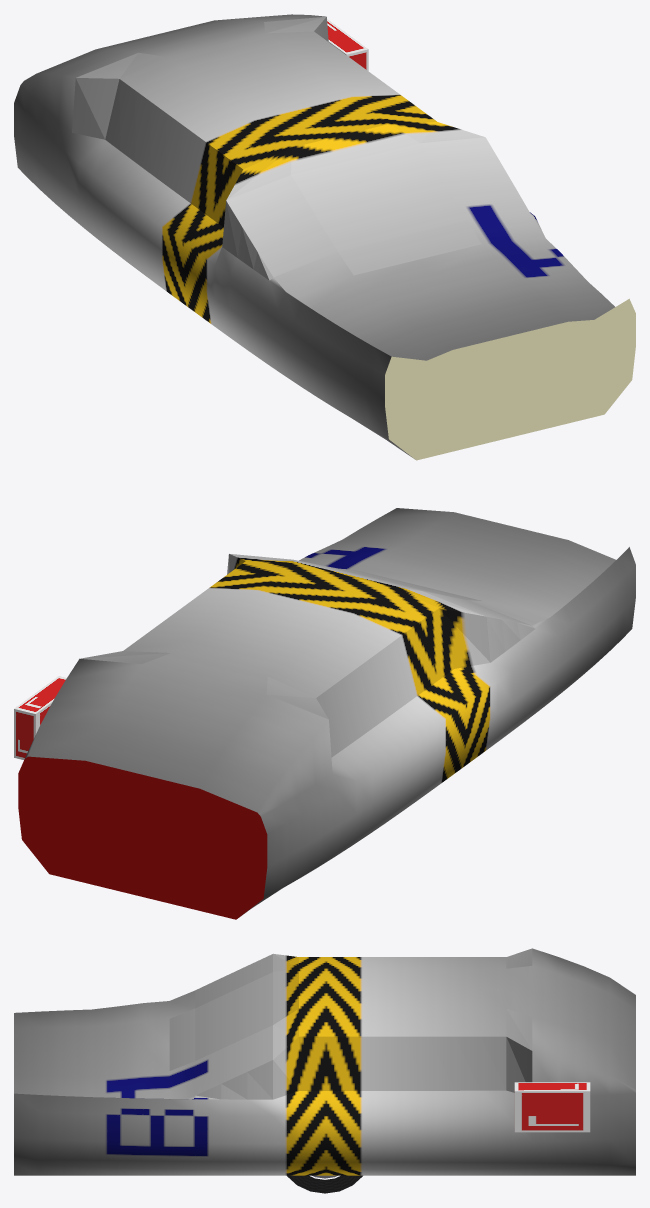
The model's file is coupe.gltf.
3 views of the same model, one above another, from view 1: azimuth 30°, elevation 25°; view 2: azimuth 150°, elevation 25°; view 3: azimuth 270°, elevation 25° (orthographic). The views are drawn at different scales.
Visible parts, largest first — view 1: body; view 2: body; view 3: body, wheel.
Boxes of the visible parts, <box> form: body: <box>14,14,635,460</box>; body: <box>14,508,635,919</box>; body: <box>14,948,635,1175</box>; wheel: <box>287,1175,362,1193</box>.
Bounding box in the file's own units: 1.9 × 1.44 × 4.1.
3 materials, 3 textured.
